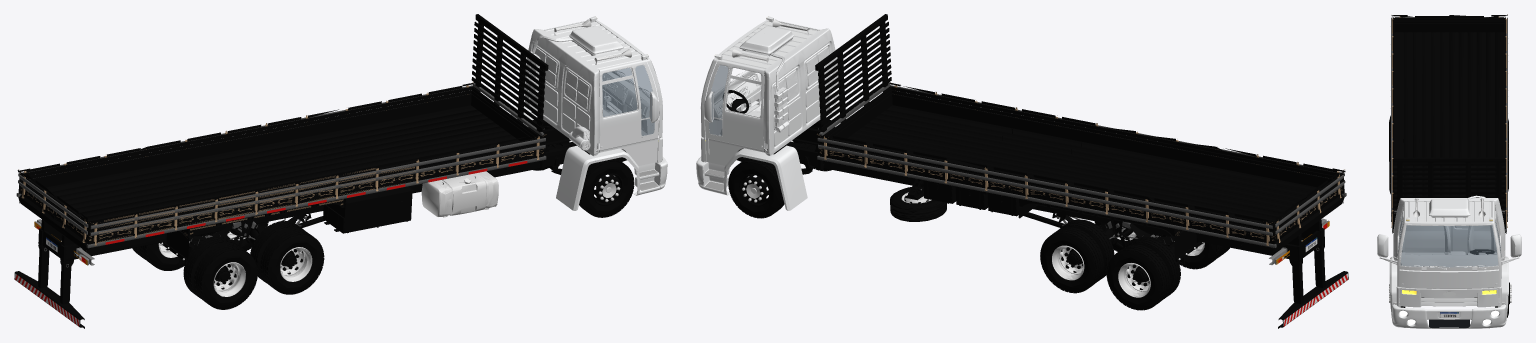
Rendered from caminhao.glb.
3 renders of one model, left to right at view 1: azimuth 30°, elevation 25°; view 2: azimuth 150°, elevation 25°; view 3: azimuth 270°, elevation 25°, orthographic. The views are drawn at different scales.
Visible parts, largest first — view 1: Cylinder_PRETO_0, Model4.53_MeshModel4.53_COR PRINCIPAL_0, Model12.50_cinza_0, Cylinder.002_CROMADO BUZINA_0, carroceria.034__0, vidros-dianteiros, Model12.73_vermelho_0, rim fh 01.002_RODA DE ALUMINIO_0; view 2: Cylinder_PRETO_0, Model4.53_MeshModel4.53_COR PRINCIPAL_0, Model12.50_cinza_0, Cylinder.002_CROMADO BUZINA_0, carroceria.034__0, vidros-dianteiros; view 3: Cylinder_PRETO_0, Model4.53_MeshModel4.53_COR PRINCIPAL_0, parabrisa, Model12.50_cinza_0, carroceria.034__0, para-choque-fechamento, Cylinder.002_CROMADO BUZINA_0, Model4.40_MeshModel4.40_FAROL_0, Model4.61_MeshModel4.61_FAROL_0.
Part boxes in pixels (bbox=[...]): Cylinder_PRETO_0: bbox=[14, 14, 634, 328]; Model4.53_MeshModel4.53_COR PRINCIPAL_0: bbox=[511, 16, 667, 210]; Model12.50_cinza_0: bbox=[16, 83, 546, 267]; Cylinder.002_CROMADO BUZINA_0: bbox=[158, 19, 631, 296]; carroceria.034__0: bbox=[18, 82, 546, 245]; vidros-dianteiros: bbox=[602, 65, 654, 135]; Model12.73_vermelho_0: bbox=[15, 161, 527, 326]; rim fh 01.002_RODA DE ALUMINIO_0: bbox=[280, 247, 312, 281]; Cylinder_PRETO_0: bbox=[722, 14, 1348, 328]; Model4.53_MeshModel4.53_COR PRINCIPAL_0: bbox=[696, 16, 852, 210]; Model12.50_cinza_0: bbox=[817, 83, 1346, 250]; Cylinder.002_CROMADO BUZINA_0: bbox=[732, 19, 1204, 297]; carroceria.034__0: bbox=[817, 82, 1344, 245]; vidros-dianteiros: bbox=[709, 65, 728, 135]; Cylinder_PRETO_0: bbox=[1389, 14, 1509, 317]; Model4.53_MeshModel4.53_COR PRINCIPAL_0: bbox=[1377, 195, 1521, 328]; parabrisa: bbox=[1400, 225, 1498, 267]; Model12.50_cinza_0: bbox=[1391, 17, 1507, 232]; carroceria.034__0: bbox=[1391, 14, 1507, 227]; para-choque-fechamento: bbox=[1429, 319, 1469, 327]; Cylinder.002_CROMADO BUZINA_0: bbox=[1389, 198, 1511, 302]; Model4.40_MeshModel4.40_FAROL_0: bbox=[1399, 310, 1499, 324]; Model4.61_MeshModel4.61_FAROL_0: bbox=[1402, 290, 1496, 294].
Bounding box in the file's own units: 11.55 × 3.11 × 3.04.
Materials: 20 (1 with a texture image).
